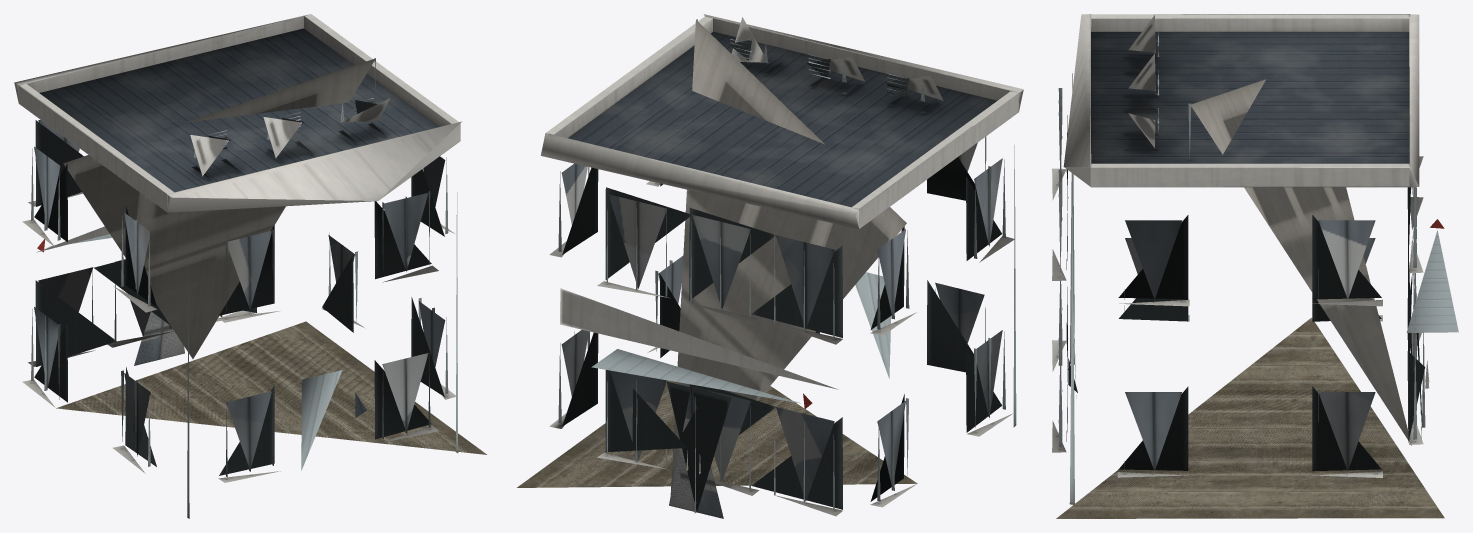
Rendered from public_006.lod2.obj.
3 views of the same model, side by side, from view 1: azimuth 30°, elevation 25°; view 2: azimuth 150°, elevation 25°; view 3: azimuth 270°, elevation 25° (orthographic). The views are drawn at different scales.
Parts seen in each view (by area): view 1: public_006; view 2: public_006; view 3: public_006.
Boxes of the visible parts, <box> form: public_006: <box>14,14,486,518</box>; public_006: <box>517,14,1023,518</box>; public_006: <box>1052,14,1458,518</box>.
Bounding box in the file's own units: 6.4 × 7.1 × 6.72.
1 material, 1 textured.
